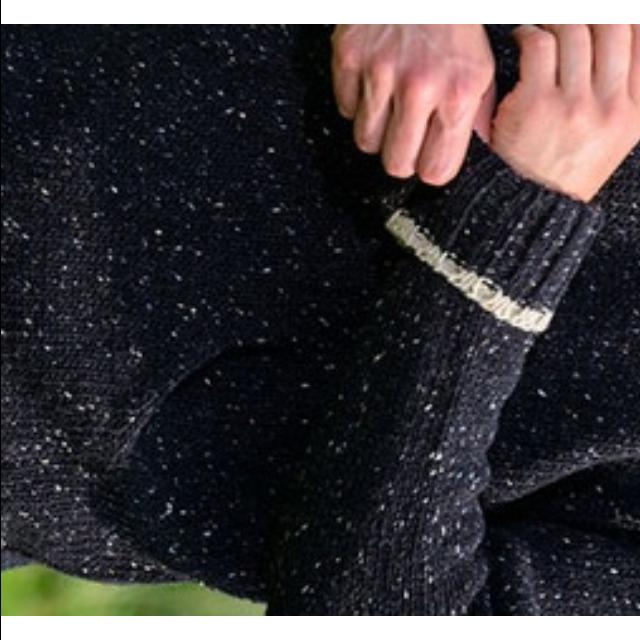wool: (0, 24, 640, 616)
